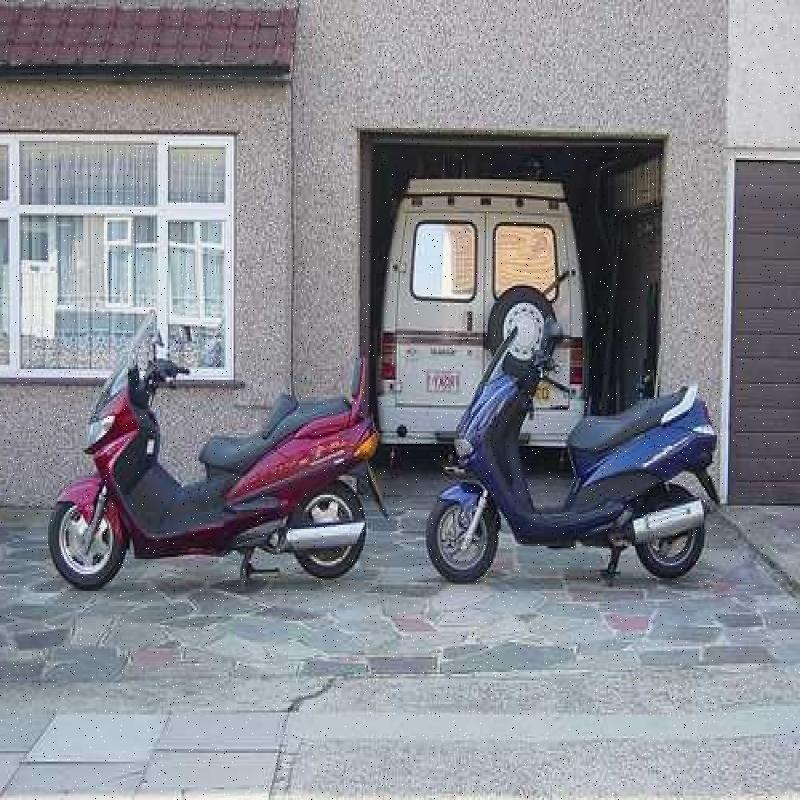bike: (59, 322, 397, 602), (434, 311, 710, 608)
